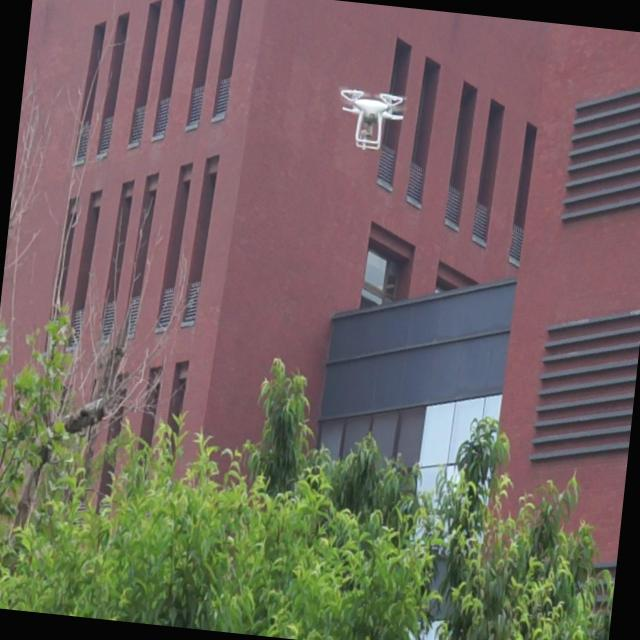drone: (330, 82, 410, 160)
